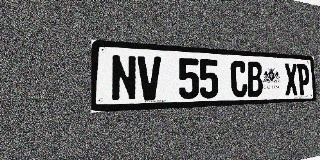5: (178, 58, 200, 99), (199, 59, 219, 99)
B: (247, 61, 263, 97)
C: (230, 60, 248, 97)
N: (111, 54, 137, 102)
P: (297, 64, 310, 95)
V: (137, 56, 162, 101)
X: (284, 63, 298, 96)
